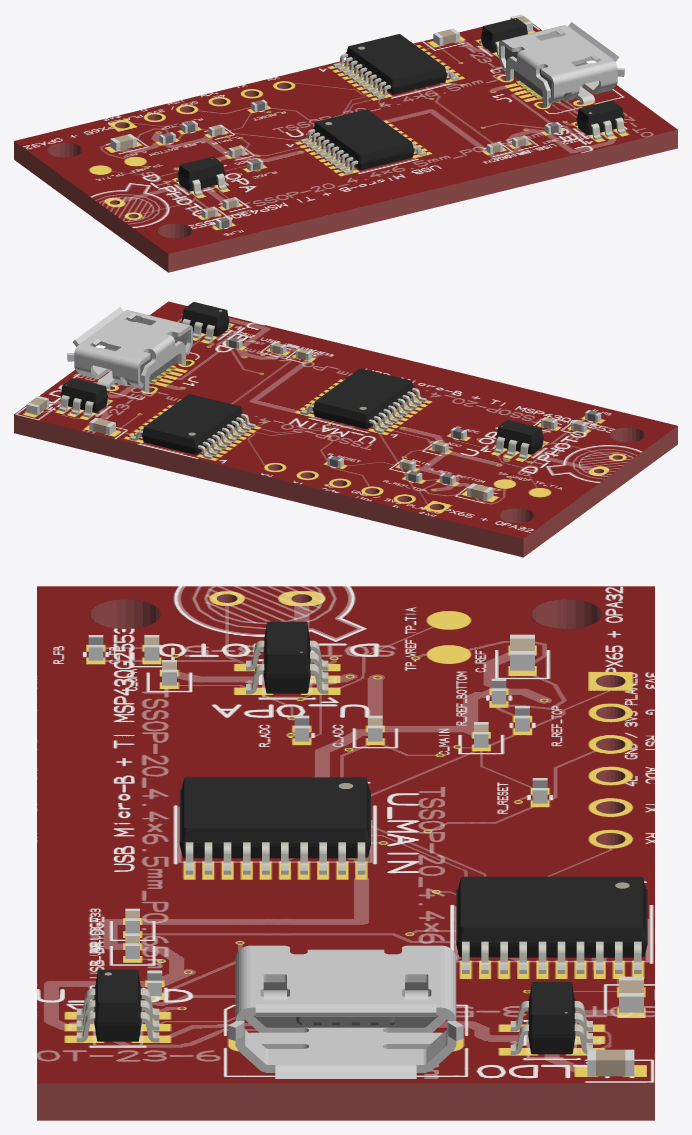
3 views of the same model, one above another, from view 1: azimuth 30°, elevation 25°; view 2: azimuth 150°, elevation 25°; view 3: azimuth 270°, elevation 25° (orthographic). The views are drawn at different scales.
Parts seen in each view (by area): view 1: Box0, J1, U_USB, U_MAIN, U_ESD, U_OPA, U_LDO; view 2: Box0, J1, U_USB, U_MAIN, U_OPA, U_LDO, U_ESD; view 3: Box0, J1, U_MAIN, U_USB, U_ESD, U_OPA, U_LDO, C_LDO_IN, C_LDO_OUT, C_REF.
Part boxes in pixels (x1,y1,x2,y2): Box0: (14, 24, 677, 272); J1: (499, 22, 624, 107); U_USB: (333, 34, 459, 98); U_MAIN: (300, 109, 426, 174); U_ESD: (575, 100, 625, 139); U_OPA: (176, 156, 226, 196); U_LDO: (479, 18, 527, 56); Box0: (14, 301, 677, 557); J1: (67, 307, 192, 392); U_USB: (129, 394, 255, 459); U_MAIN: (300, 368, 426, 433); U_OPA: (494, 420, 545, 459); U_LDO: (58, 378, 109, 417); U_ESD: (182, 302, 230, 341); Box0: (37, 586, 654, 1120); J1: (228, 945, 463, 1078); U_MAIN: (179, 777, 370, 874); U_USB: (456, 876, 647, 973); U_ESD: (76, 969, 159, 1042); U_OPA: (246, 621, 328, 694); U_LDO: (510, 982, 592, 1054); C_LDO_IN: (587, 1049, 634, 1076); C_LDO_OUT: (619, 976, 643, 1012); C_REF: (510, 634, 534, 670).
Bounding box in the file's own units: 40 × 4.13 × 21.
13 materials, 2 textured.
